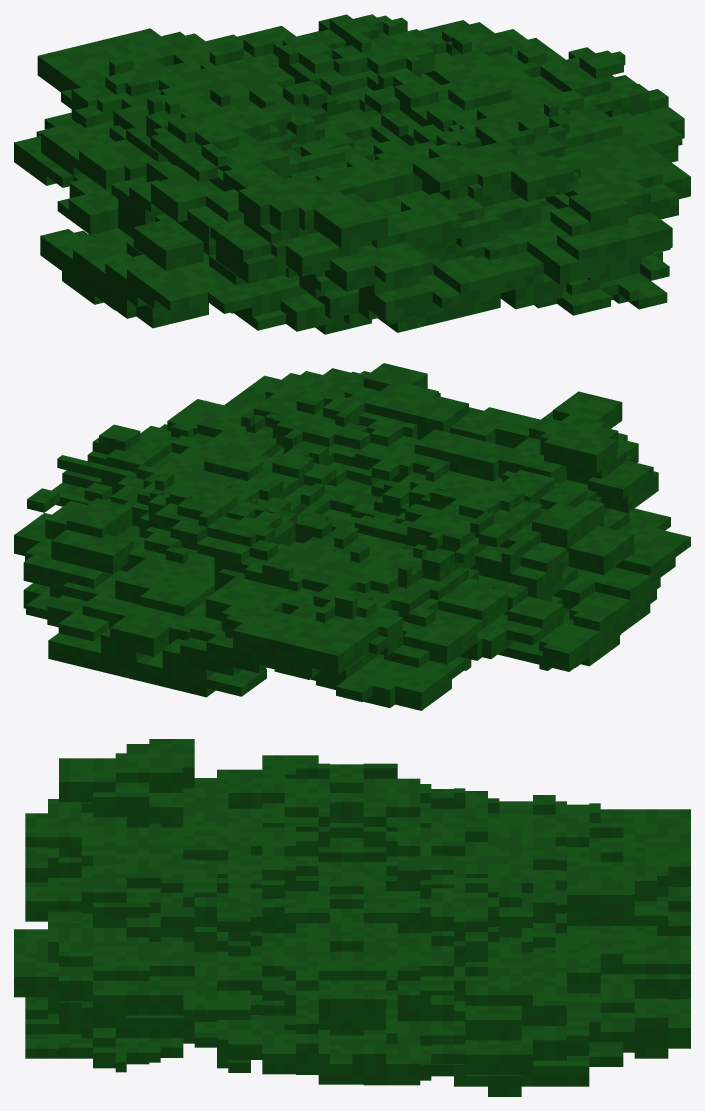
The model's file is start_end-43.obj.
3 views of the same model, one above another, from view 1: azimuth 30°, elevation 25°; view 2: azimuth 150°, elevation 25°; view 3: azimuth 270°, elevation 25° (orthographic). The views are drawn at different scales.
Bounding box in the file's own units: 6 × 1.7 × 6.
Materials: 1 (1 with a texture image).
